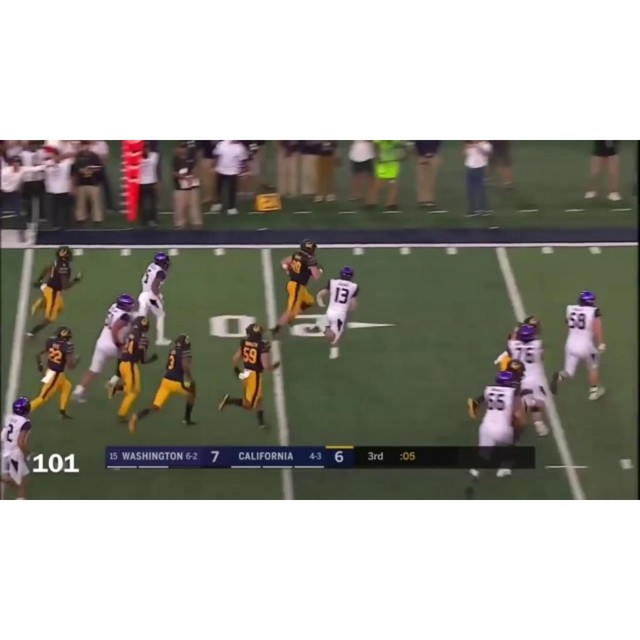american-football-player: (75, 295, 138, 405), (466, 368, 524, 484), (132, 333, 199, 433), (553, 290, 609, 400), (218, 324, 275, 428), (107, 317, 158, 429), (23, 248, 83, 338), (270, 240, 322, 336), (28, 326, 79, 422), (318, 265, 360, 362), (136, 252, 174, 346), (0, 398, 35, 500), (508, 361, 553, 439)
